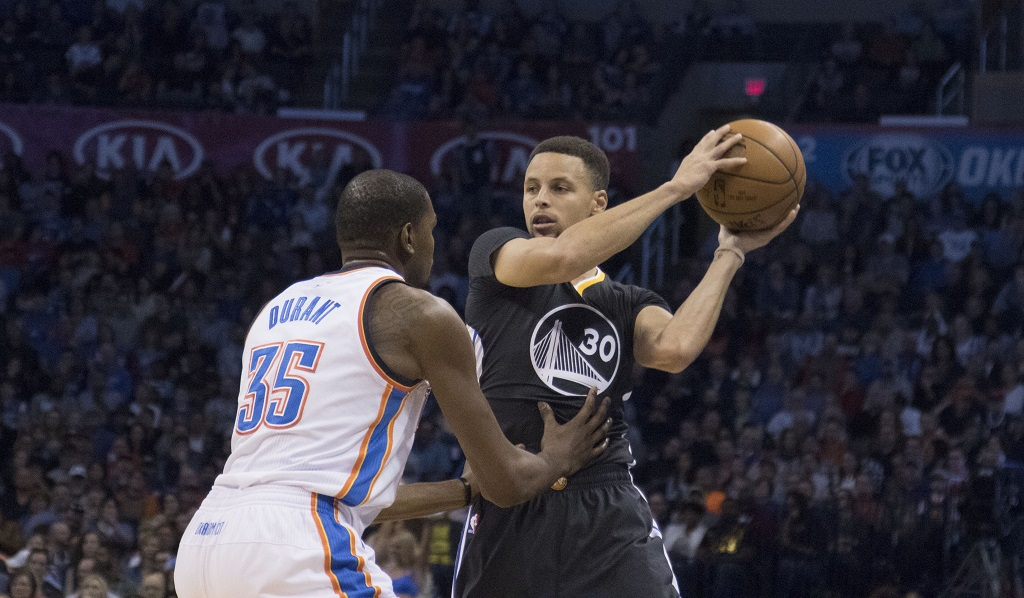Basketball: (691, 116, 813, 242)
